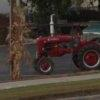Tractor: (30, 20, 100, 81)
